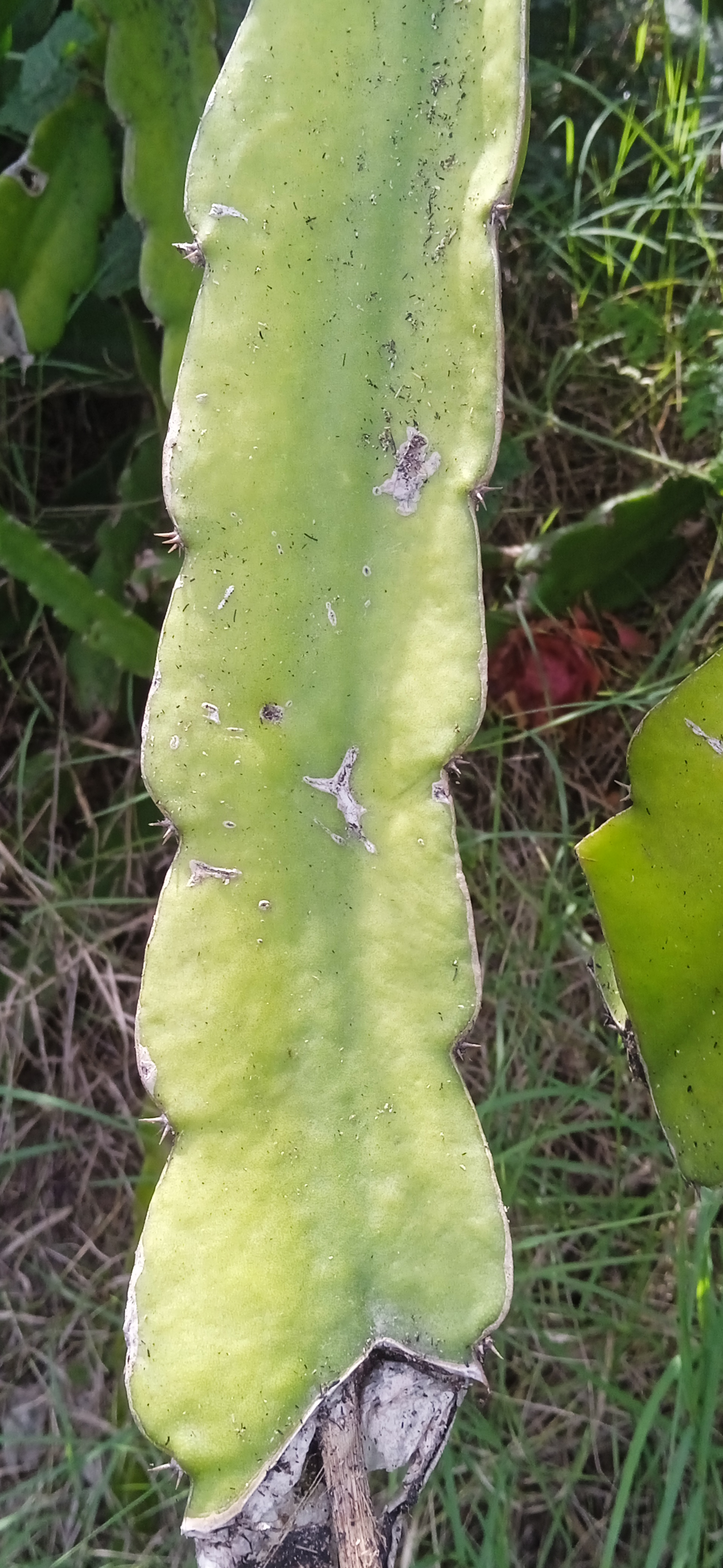stemcanker: (95, 4, 558, 1560)
